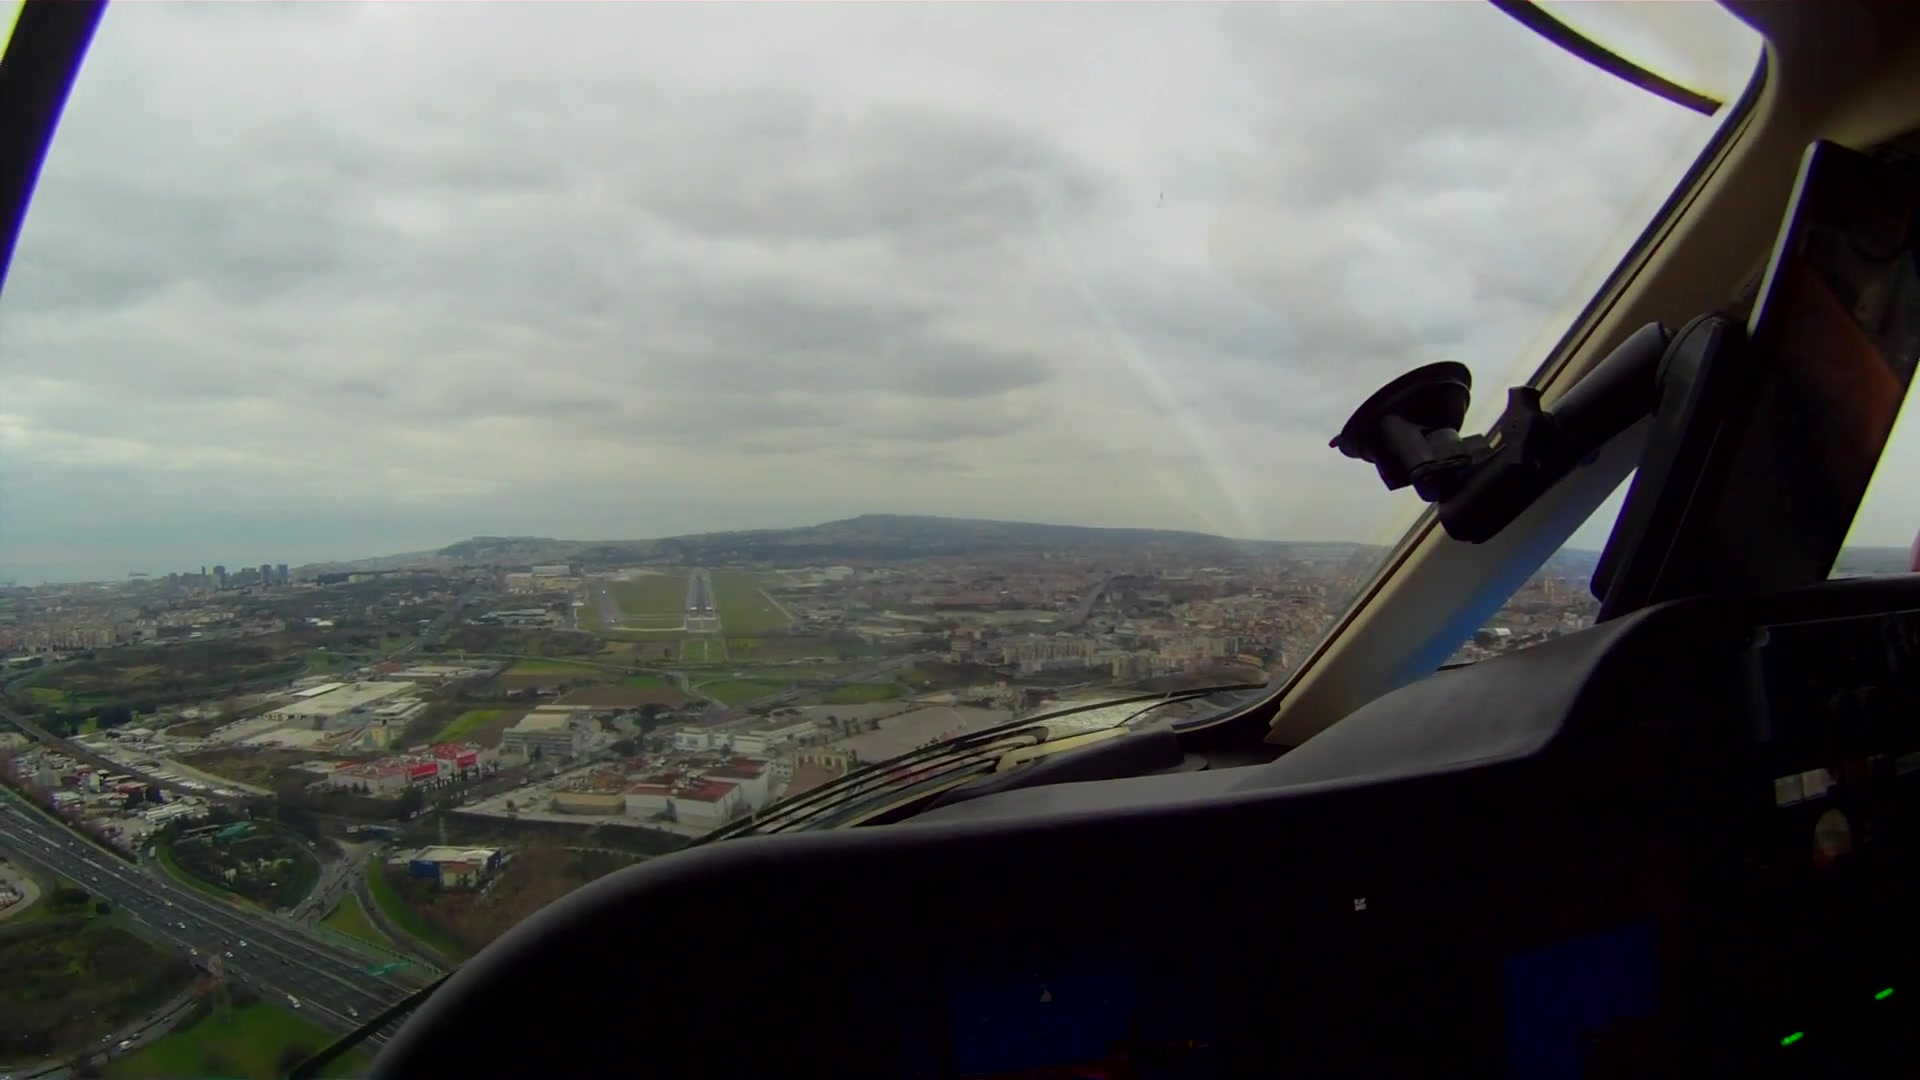runway: (678, 570, 725, 634)
